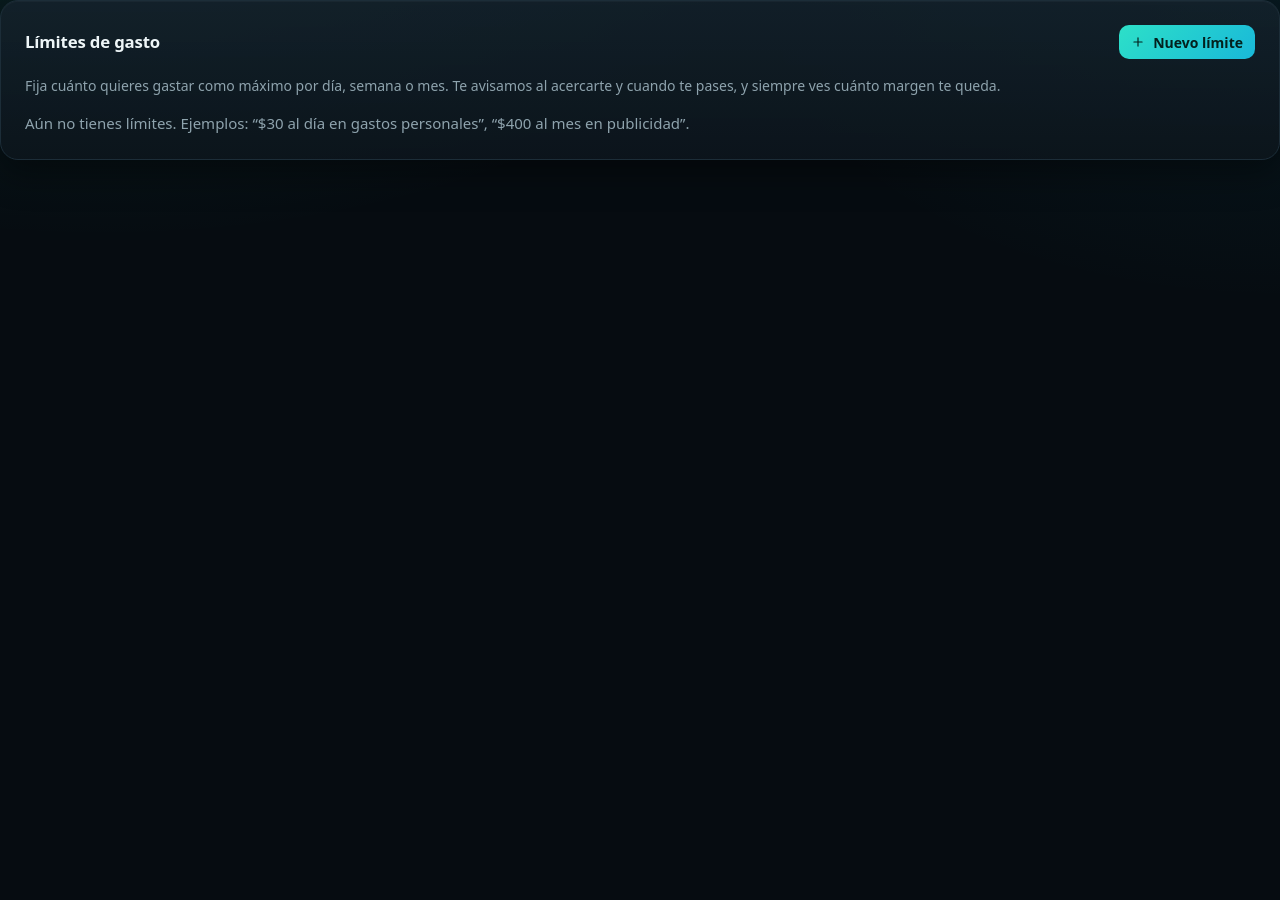
Test: BudgetsPanel › crea un límite con el importe en centavos y no guarda si falta algo
Later steps or results of the test are not shown.
Click the button "Nuevo límite": [1187, 42] box [1119, 25, 1255, 59]
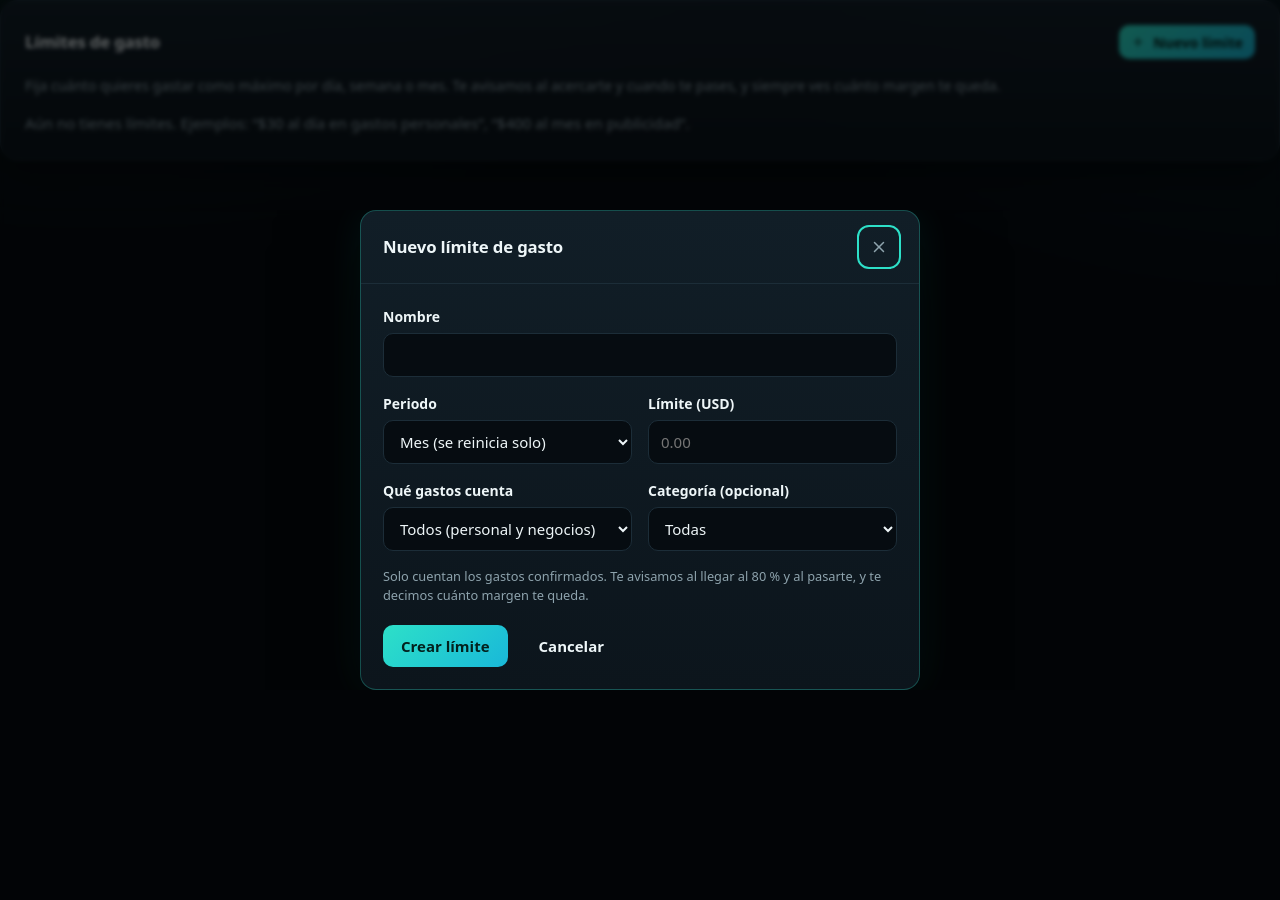
Click the button "Crear límite": [445, 646] box [383, 625, 508, 667]
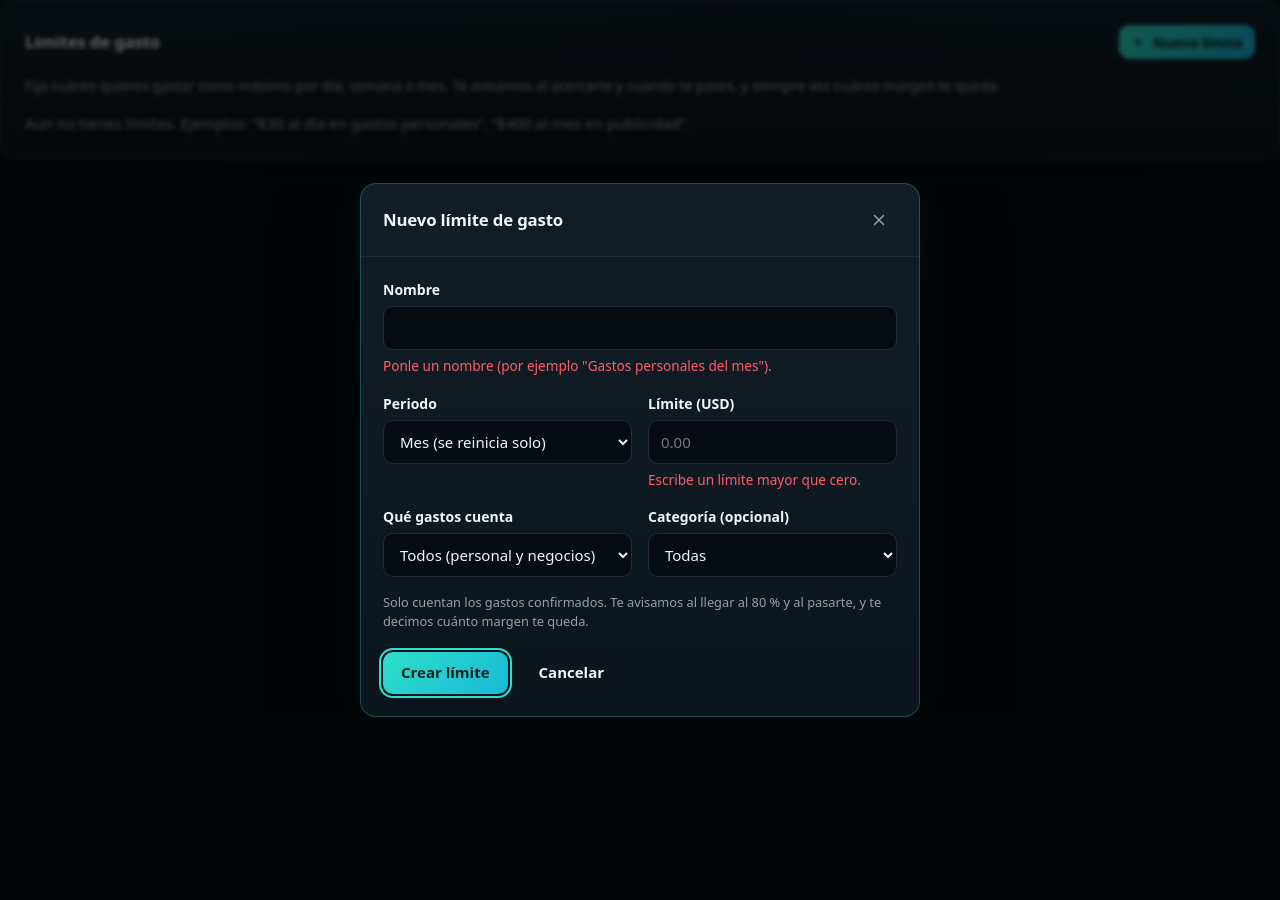
Result: the message "Ponle un nombre (por ejemplo \"Gastos personales del mes\")." is shown at [383, 356, 772, 375]
